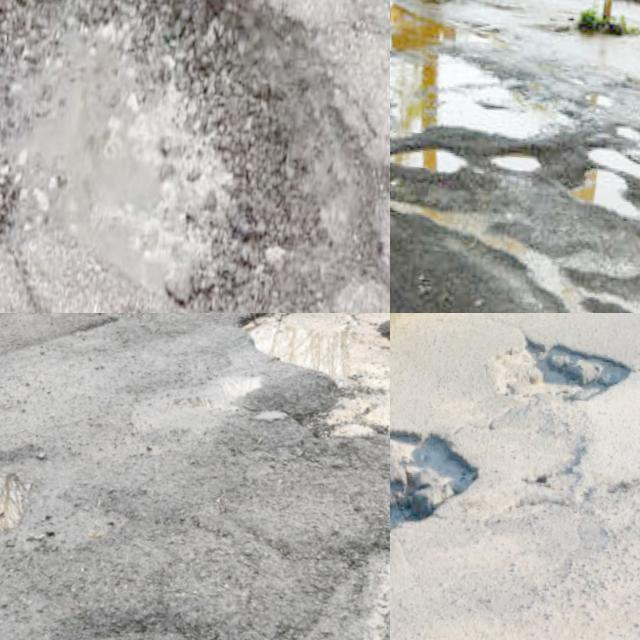Potholes: (0, 0, 390, 313), (390, 347, 535, 640), (390, 21, 577, 213), (225, 313, 390, 476), (518, 99, 640, 290), (472, 313, 640, 447), (5, 563, 253, 640), (390, 59, 454, 313), (390, 248, 640, 313), (264, 519, 390, 640), (390, 0, 481, 123), (1, 313, 179, 359), (0, 431, 46, 576), (329, 313, 390, 369)
